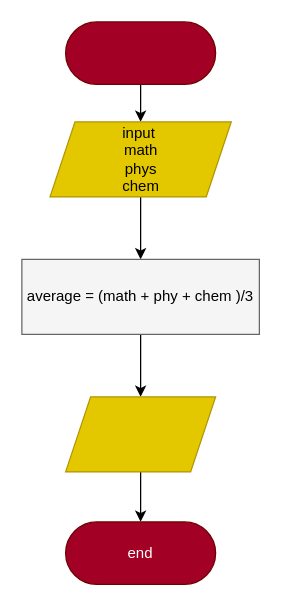
Some shapes in this 281 by 606 pixel diagram are drawn without their labels. Each missing label, with the box of its shape:
display average: (64, 396, 216, 472)
start: (64, 21, 216, 84)
